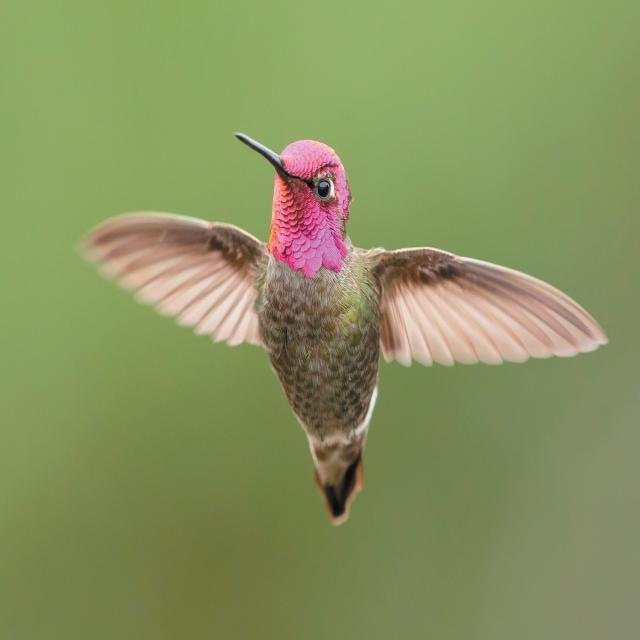Humming Bird: (77, 123, 600, 530)
